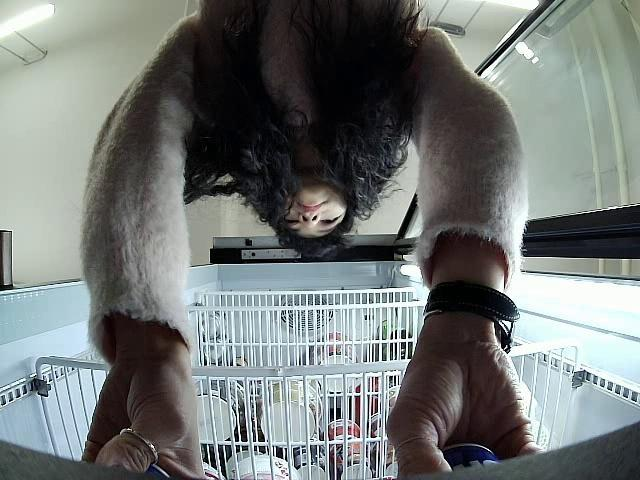16_hot6: (444, 443, 498, 472)
